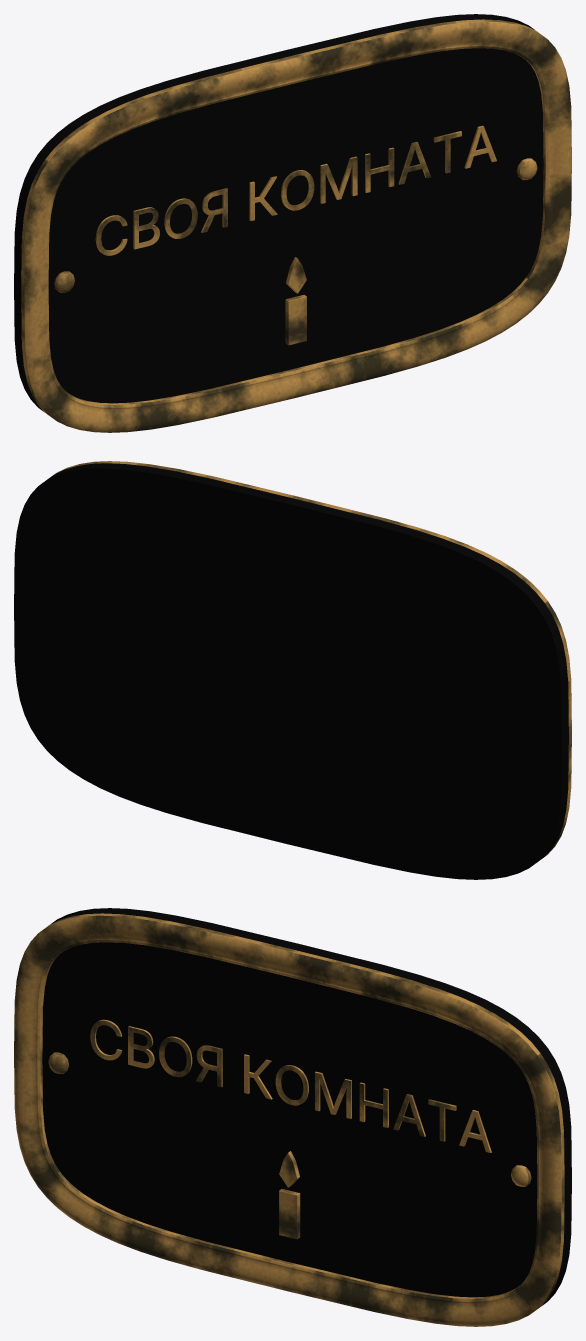
Rendered from Sign_Plaque.gltf.
The picture shows the model from 3 angles, top to bottom: view 1: azimuth 30°, elevation 25°; view 2: azimuth 150°, elevation 25°; view 3: azimuth 330°, elevation 25°; orthographic projection.
Parts seen in each view (by area): view 1: Sign_Plaque_Field, Sign_Plaque_Brass, Sign_Plaque_Text; view 2: Sign_Plaque_Field, Sign_Plaque_Brass; view 3: Sign_Plaque_Field, Sign_Plaque_Brass, Sign_Plaque_Text.
Part boxes in pixels (<box>): Sign_Plaque_Field: <box>14,14,543,412</box>; Sign_Plaque_Brass: <box>21,19,571,432</box>; Sign_Plaque_Text: <box>95,125,496,255</box>; Sign_Plaque_Field: <box>14,463,568,879</box>; Sign_Plaque_Brass: <box>55,461,571,856</box>; Sign_Plaque_Field: <box>42,908,571,1306</box>; Sign_Plaque_Brass: <box>14,913,564,1326</box>; Sign_Plaque_Text: <box>90,1019,491,1152</box>.
Bounding box in the file's own units: 0.64 × 0.38 × 0.0242.
3 materials, 2 textured.
